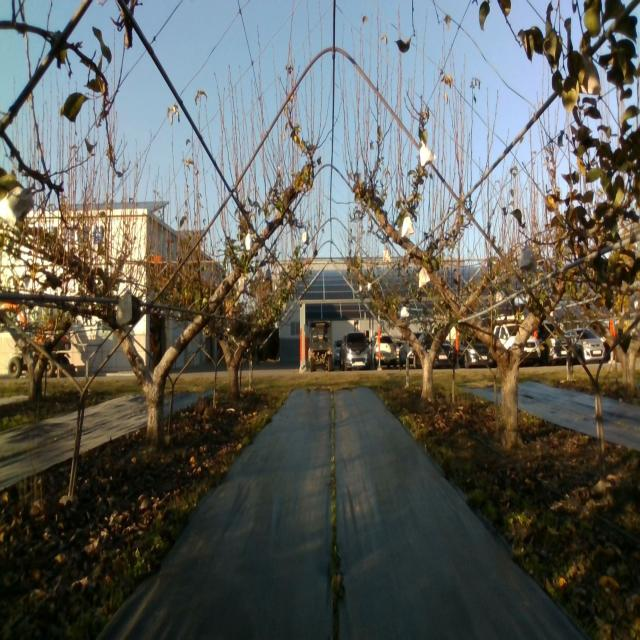pearbags: (0, 186, 33, 226), (578, 56, 602, 95), (520, 242, 538, 274), (419, 140, 437, 167), (401, 215, 414, 239), (418, 265, 430, 288)
